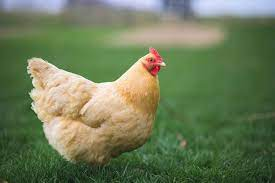Gà/Chicken: (15, 38, 182, 179)
